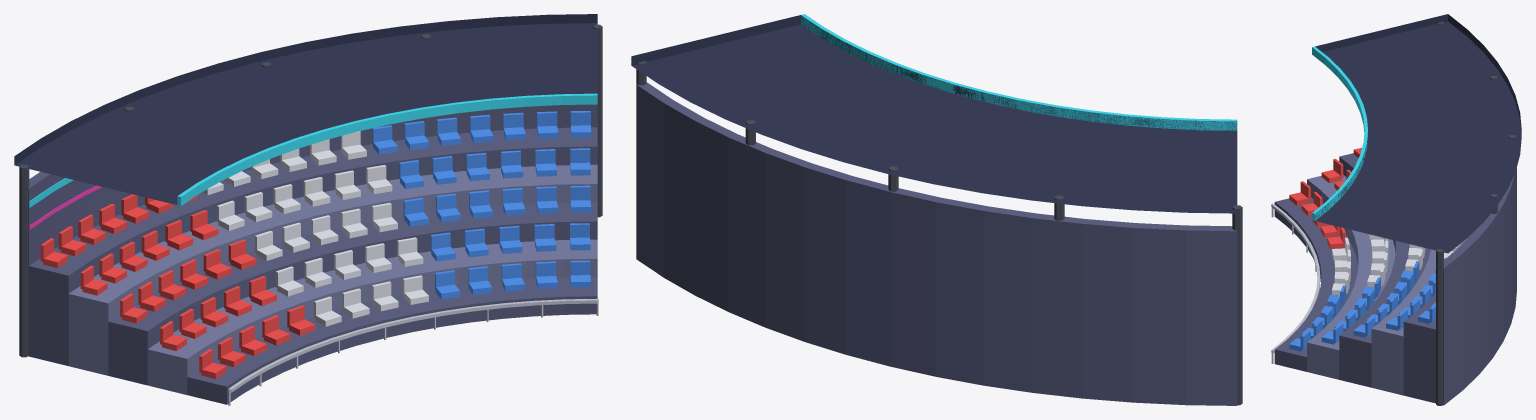
Rendered from Stand_Section.obj.
The picture shows the model from 3 angles, left to right: view 1: azimuth 30°, elevation 25°; view 2: azimuth 150°, elevation 25°; view 3: azimuth 270°, elevation 25°; orthographic projection. The views are drawn at different scales.
Parts seen in each view (by area): view 1: Roof, Concrete, ConcreteLight, SeatBlue, SeatRed, SeatWhite, Neon, Metal, Rail; view 2: Concrete, Roof, Neon, Metal; view 3: Roof, Concrete, ConcreteLight, SeatBlue, SeatWhite, SeatRed, Neon, Metal, Rail.
Part boxes in pixels (x1,y1,x2,y2): Roof: [14, 14, 597, 204]; Concrete: [28, 104, 597, 404]; ConcreteLight: [68, 164, 597, 394]; SeatBlue: [372, 111, 591, 299]; SeatRed: [40, 194, 315, 378]; SeatWhite: [202, 131, 428, 326]; Neon: [29, 93, 597, 207]; Metal: [19, 24, 602, 357]; Rail: [228, 298, 598, 405]; Concrete: [636, 82, 1237, 405]; Roof: [631, 15, 1237, 213]; Neon: [801, 14, 1237, 130]; Metal: [636, 61, 1242, 405]; Roof: [1315, 14, 1521, 253]; Concrete: [1274, 153, 1516, 405]; ConcreteLight: [1307, 175, 1467, 395]; SeatBlue: [1289, 253, 1452, 351]; SeatWhite: [1332, 234, 1461, 295]; SeatRed: [1289, 147, 1361, 248]; Neon: [1312, 46, 1435, 281]; Metal: [1436, 21, 1516, 405]; Rail: [1271, 203, 1320, 363].
Bounding box in the file's own units: 47.2 × 15.2 × 21.52.
